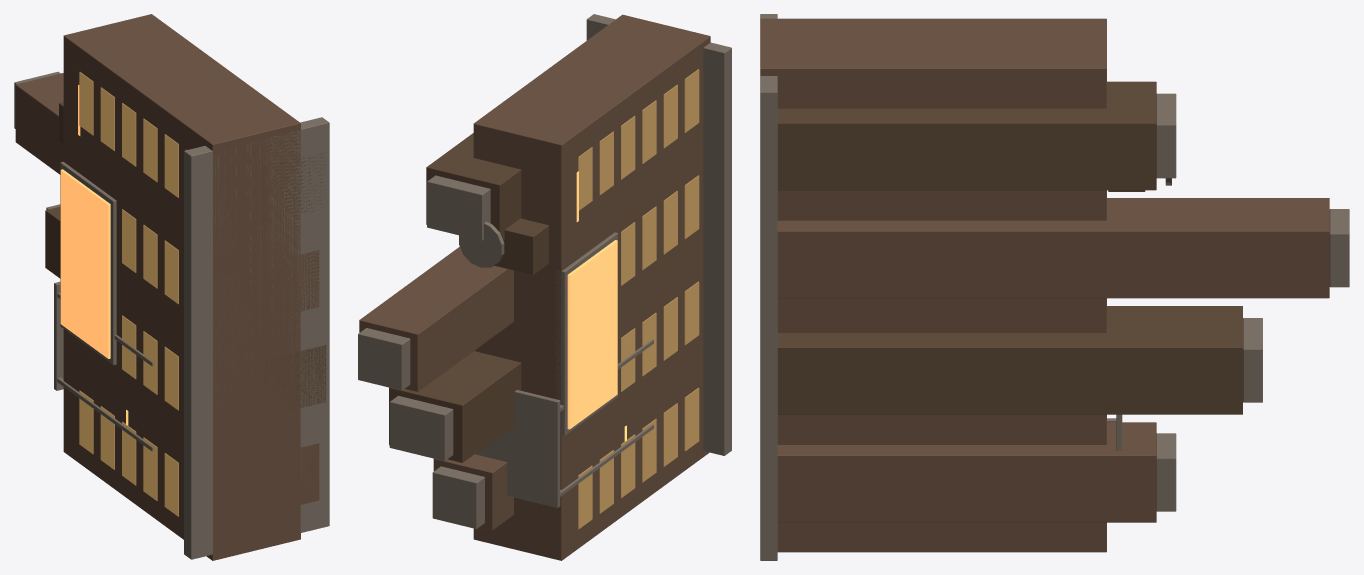
Rendered from far_facade_shell_canyon_r.glb.
The picture shows the model from 3 angles, left to right: view 1: azimuth 30°, elevation 25°; view 2: azimuth 150°, elevation 25°; view 3: azimuth 270°, elevation 25°; orthographic projection. The views are drawn at different scales.
Visible parts, largest first — view 1: FlightKit_FarFacadeMass_canyon_R; view 2: FlightKit_FarFacadeMass_canyon_R; view 3: FlightKit_FarFacadeMass_canyon_R.
Part boxes in pixels (x1=…): FlightKit_FarFacadeMass_canyon_R: x1=14, y1=14, x2=329, y2=560; FlightKit_FarFacadeMass_canyon_R: x1=358, y1=14, x2=731, y2=560; FlightKit_FarFacadeMass_canyon_R: x1=760, y1=14, x2=1349, y2=560.
Bounding box in the file's own units: 7.5 × 21.56 × 23.8.
